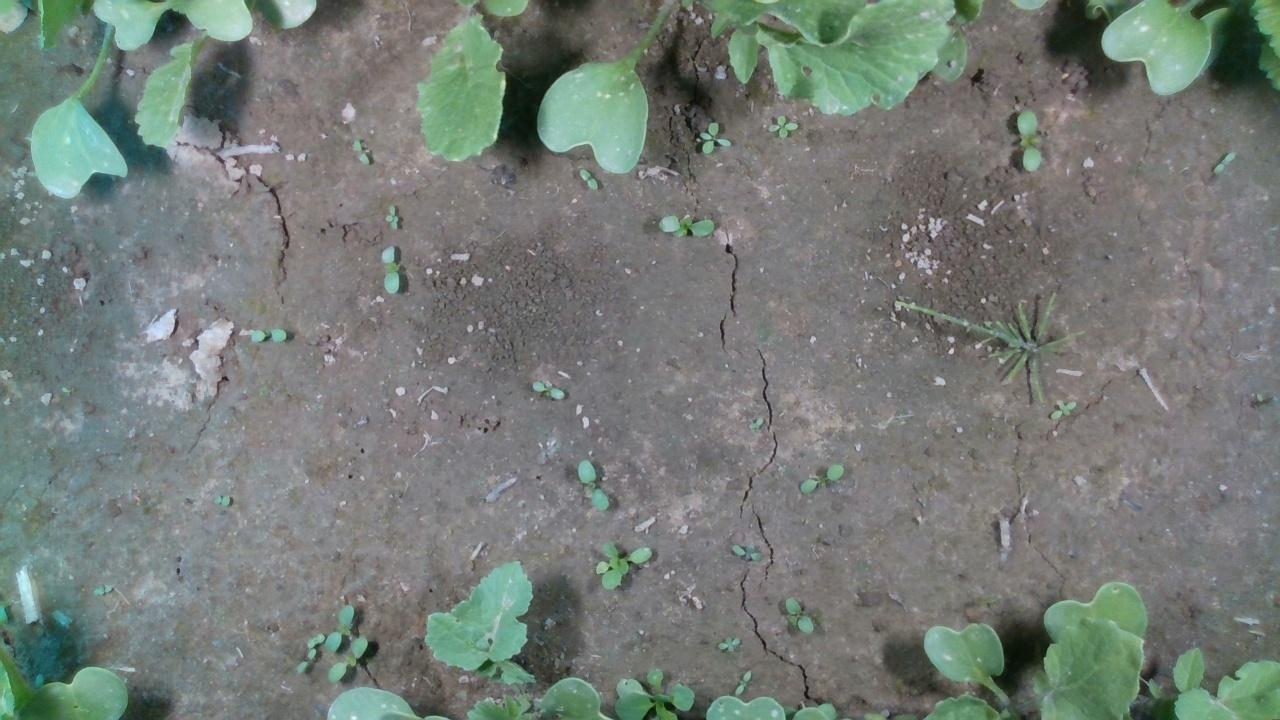weed: (577, 459, 609, 512), (1016, 108, 1041, 170), (658, 212, 714, 237), (798, 463, 844, 492), (783, 595, 814, 633), (698, 120, 732, 152), (379, 242, 399, 293), (765, 113, 798, 137), (530, 377, 564, 400), (249, 327, 286, 344), (1212, 148, 1234, 176), (1048, 398, 1076, 419), (295, 646, 316, 673), (729, 543, 762, 560), (734, 667, 752, 697), (351, 137, 369, 166), (716, 633, 740, 653), (577, 168, 597, 191), (383, 203, 399, 230)
